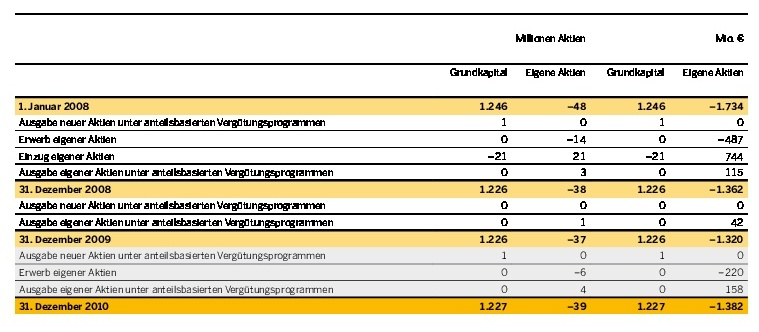table: (0, 0, 759, 332)
